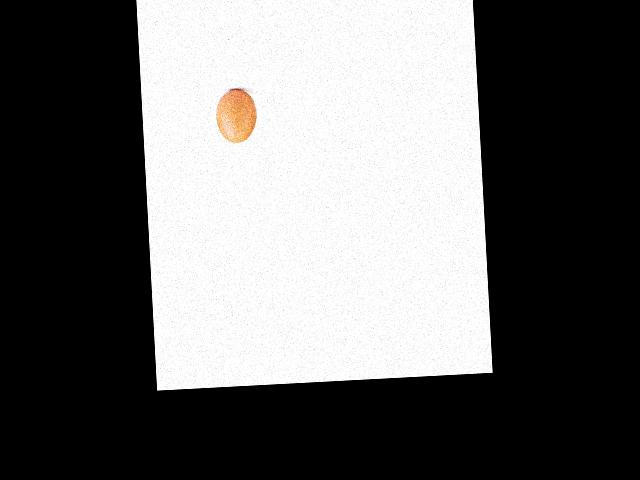egg: (215, 88, 258, 143)
